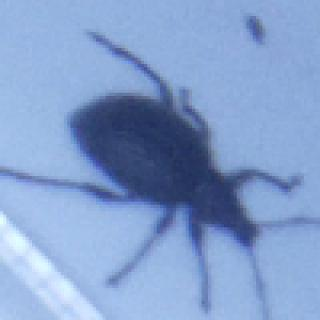bvw: (0, 30, 314, 318)
